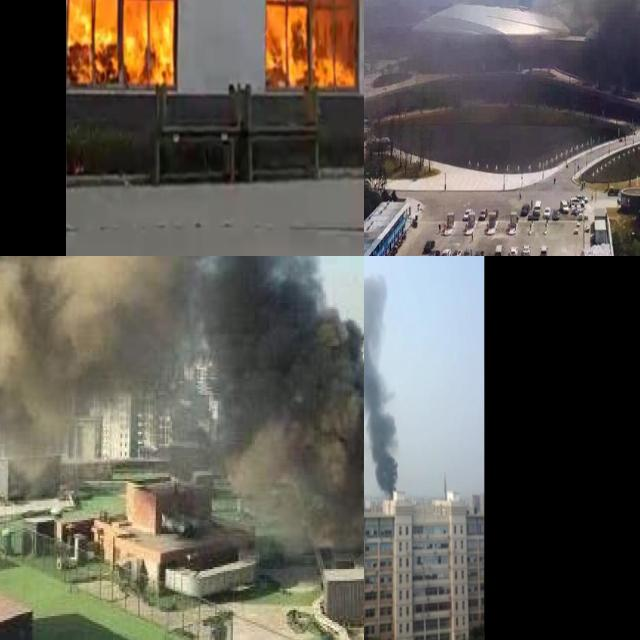fire: (63, 0, 178, 88), (262, 0, 358, 93)
smoke: (0, 256, 364, 554), (364, 0, 543, 154), (550, 0, 640, 97), (364, 262, 399, 499)
